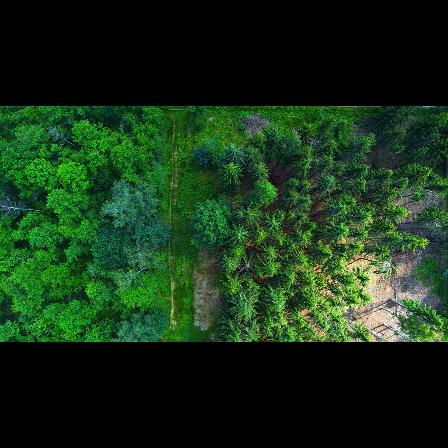Dead: (238, 115, 275, 145), (0, 199, 44, 222)
Sick: (236, 254, 259, 275)
